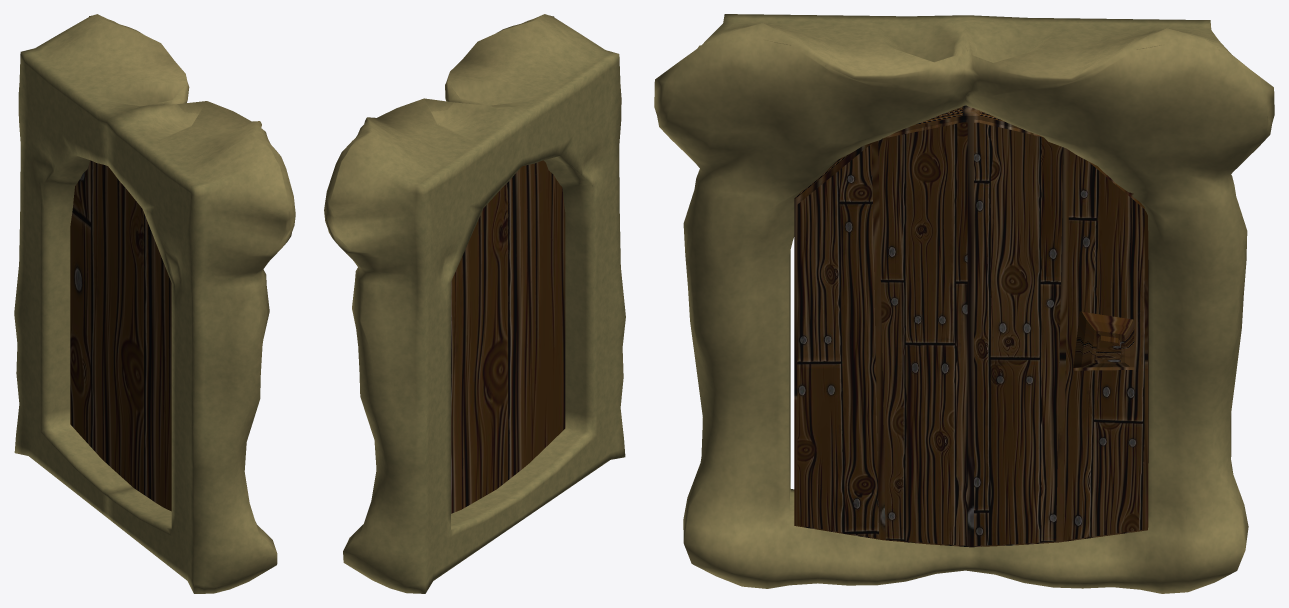
Rendered from Interior Door.fbx.
3 views of the same model, side by side, from view 1: azimuth 30°, elevation 25°; view 2: azimuth 150°, elevation 25°; view 3: azimuth 270°, elevation 25° (orthographic). The views are drawn at different scales.
Visible parts, largest first — view 1: Cube.003, Cube.004; view 2: Cube.003, Cube.004; view 3: Cube.003, Cube.004.
Part boxes in pixels (box(x1,y1,x2,y2)): Cube.003: box(14, 14, 295, 593); Cube.004: box(70, 160, 171, 511); Cube.003: box(324, 14, 625, 593); Cube.004: box(451, 160, 565, 513); Cube.003: box(654, 14, 1274, 593); Cube.004: box(794, 105, 1148, 547).
Bounding box in the file's own units: 526 × 1907 × 1877.
2 materials, 2 textured.
